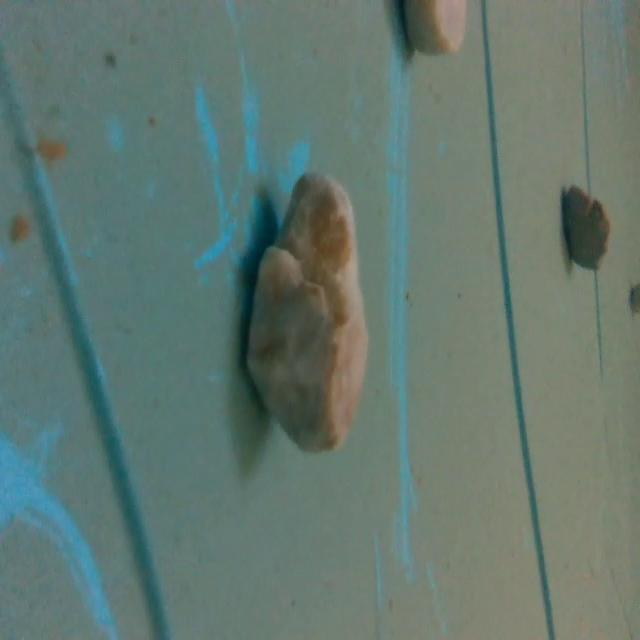rock: (242, 165, 369, 462), (553, 177, 610, 276)
